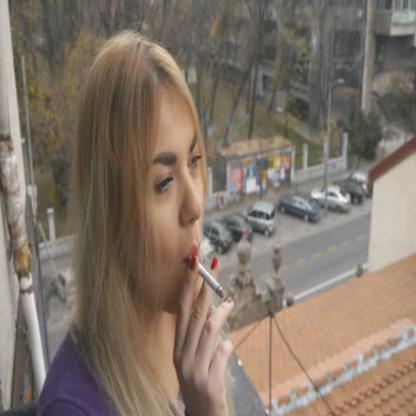cigarette: (194, 260, 226, 302)
person: (51, 32, 218, 416)
